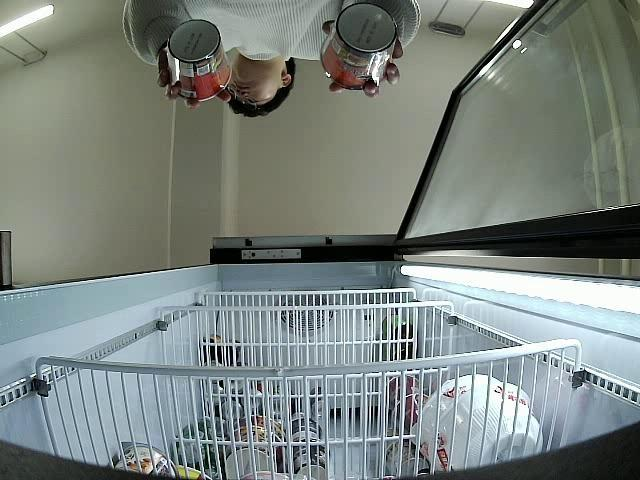02_shinRamen_S: (320, 2, 400, 92), (164, 18, 233, 102)
